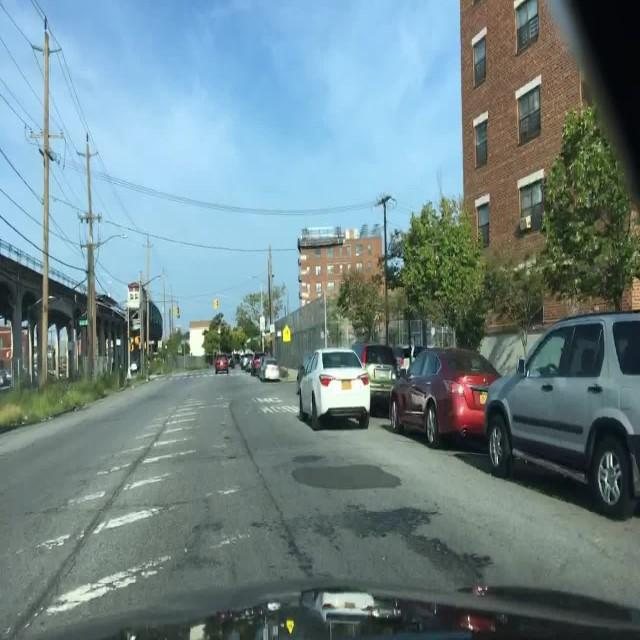normal: (486, 314, 639, 521), (394, 349, 499, 450), (296, 346, 387, 433)
